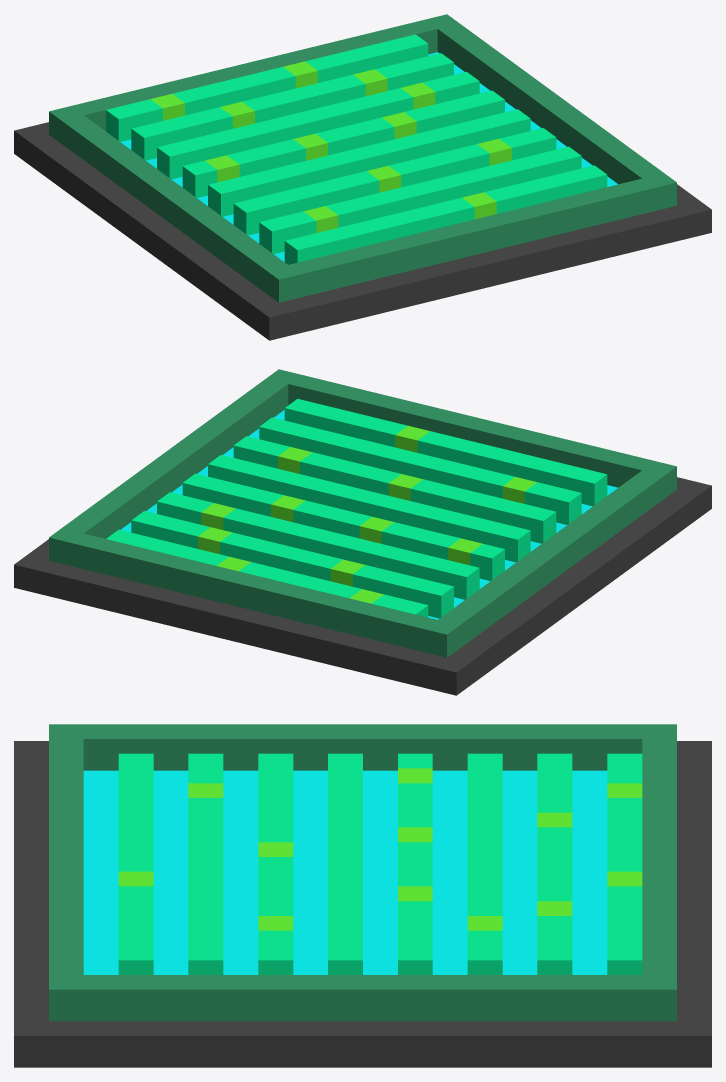
The model's file is ricefield.obj.
The picture shows the model from 3 angles, top to bottom: view 1: azimuth 30°, elevation 25°; view 2: azimuth 150°, elevation 25°; view 3: azimuth 270°, elevation 25°; orthographic projection. The views are drawn at different scales.
Size of the model in its own units: 20 by 2 by 20.
1 material, 1 textured.
